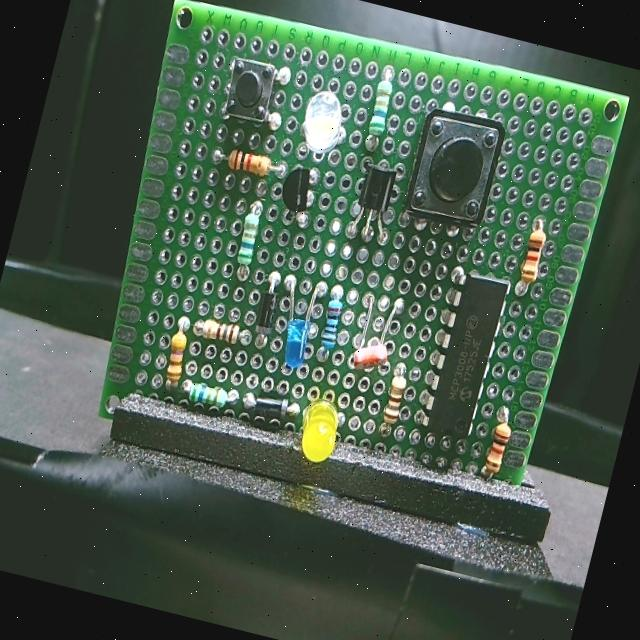IC: (416, 260, 514, 450)
diode: (238, 272, 288, 348), (245, 386, 300, 424)
led: (269, 274, 333, 372), (287, 386, 345, 478), (292, 84, 352, 162)
resistor: (343, 293, 402, 382), (371, 359, 414, 443), (212, 140, 278, 194), (311, 285, 356, 364), (510, 220, 558, 294), (356, 67, 401, 142), (227, 193, 276, 261), (174, 370, 236, 422), (477, 407, 517, 485), (187, 303, 243, 352), (157, 326, 192, 390)
switch: (400, 95, 516, 228), (214, 43, 284, 131)
transistor: (338, 150, 414, 251), (272, 160, 320, 230)
